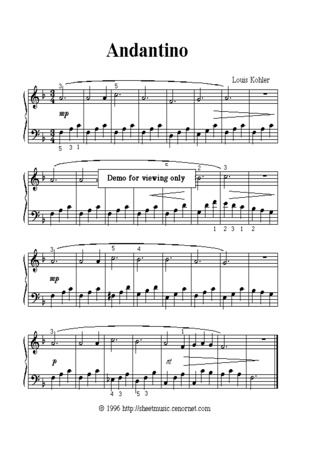Partitura: (18, 35, 284, 416)
